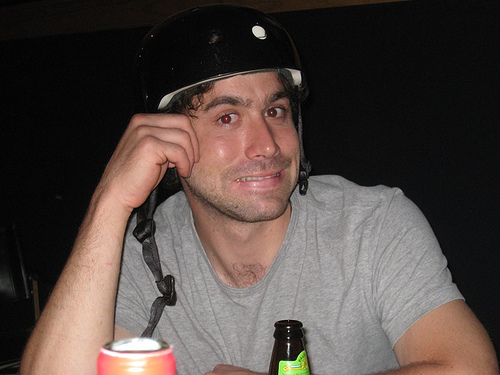helmet: (139, 17, 312, 98)
